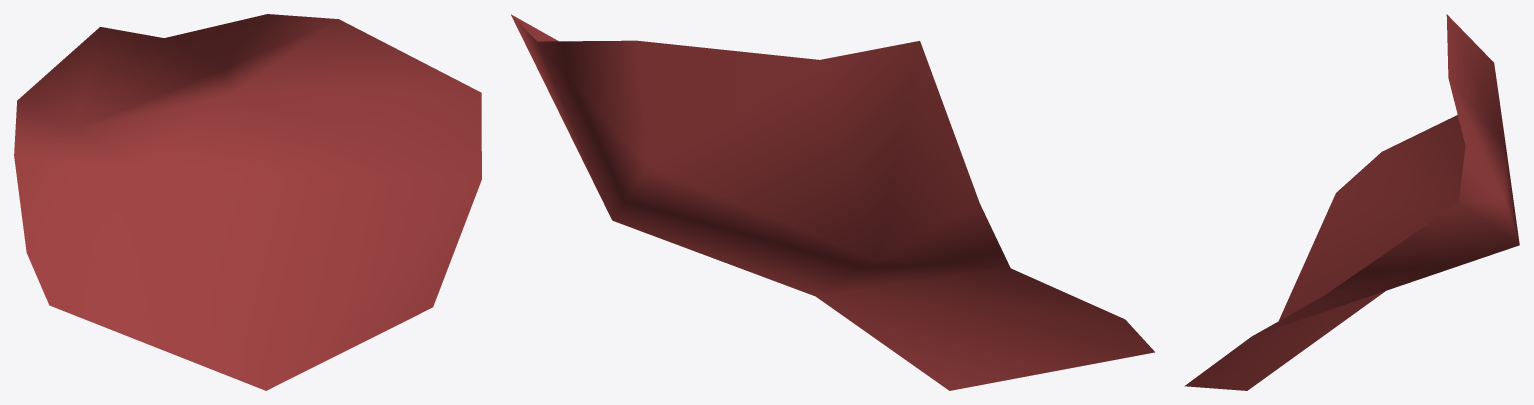
Rendered from flexor-digitorum-longus-er.glb.
3 views of the same model, side by side, from view 1: azimuth 30°, elevation 25°; view 2: azimuth 150°, elevation 25°; view 3: azimuth 270°, elevation 25° (orthographic). The views are drawn at different scales.
Visible parts, largest first — view 1: Flexor digitorum longus.er; view 2: Flexor digitorum longus.er; view 3: Flexor digitorum longus.er.
Boxes of the visible parts, x1=… form: Flexor digitorum longus.er: x1=14, y1=14, x2=481, y2=390; Flexor digitorum longus.er: x1=511, y1=14, x2=1154, y2=390; Flexor digitorum longus.er: x1=1184, y1=14, x2=1519, y2=390.
Size of the model in its own units: 0.00369 by 0.00259 by 0.00233.
